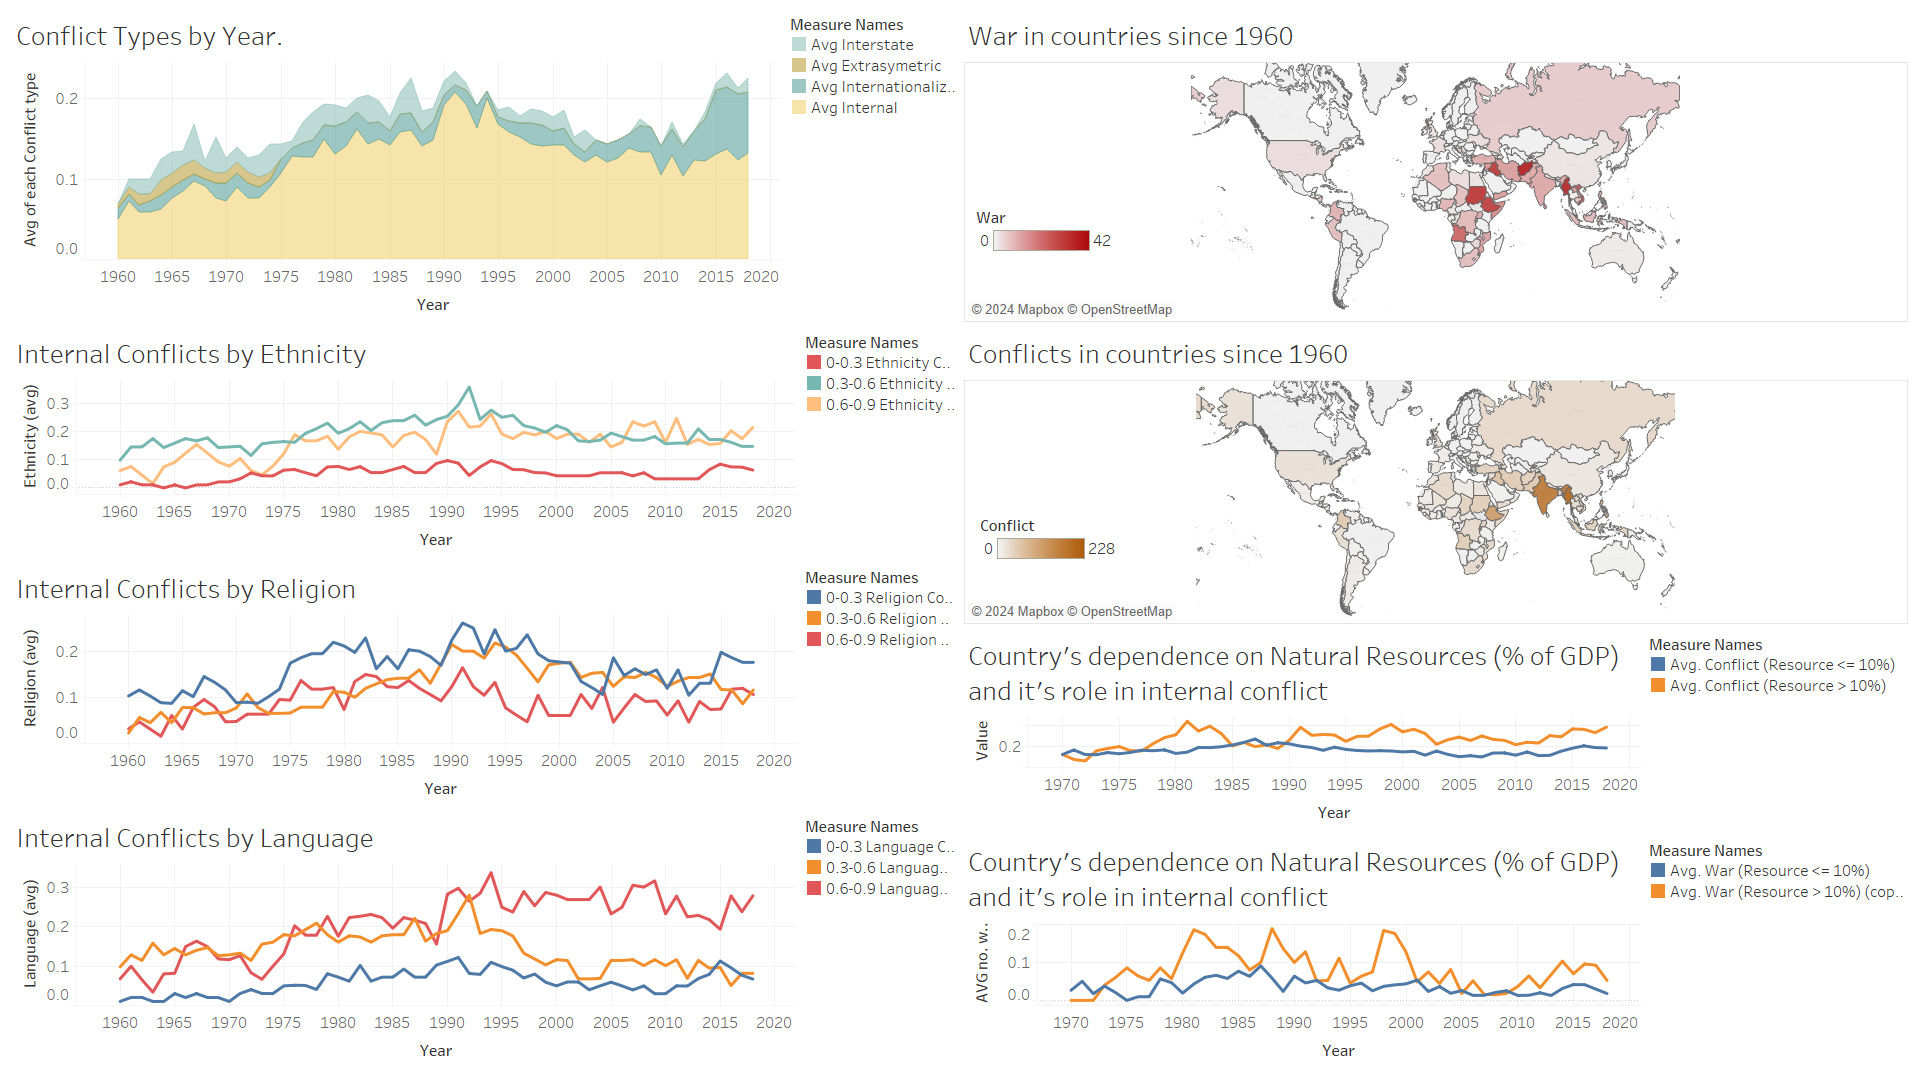

This screenshot's page, from the dashboard's own definition file:
{"tool":"tableau","page":{"name":"Dashboard 1","canvas":[1920,1080],"ordinal":0},"visuals":[{"type":"worksheet","title":"Sheet 1","mark":"Area","cols":["Year"],"box":[8,8,777.3,318]},{"type":"legend","title":"Sheet 1","param":"[federated.1ess6fn1mjjvet1e1osk21mhy7y6].[:Measure Names]","box":[785.3,8,174.7,318]},{"type":"worksheet","title":"Sheet 8","mark":"Automatic","box":[960,8,952,318]},{"type":"legend","title":"Sheet 8","param":"[federated.1ess6fn1mjjvet1e1osk21mhy7y6].[sum:war:qk]","box":[976,203,140,88]},{"type":"worksheet","title":"Sheet 3","mark":"Line","cols":["Year"],"box":[8,326,792,235]},{"type":"legend","title":"Sheet 3","param":"[federated.1ess6fn1mjjvet1e1osk21mhy7y6].[:Measure Names]","box":[800,326,160,93]},{"type":"worksheet","title":"Sheet 9","mark":"Automatic","box":[960,326,952,302.2]},{"type":"legend","title":"Sheet 9","param":"[federated.1ess6fn1mjjvet1e1osk21mhy7y6].[sum:conflict:qk]","box":[980,511,140,88]},{"type":"worksheet","title":"Sheet 4","mark":"Automatic","cols":["Year"],"box":[8,561,792,249]},{"type":"legend","title":"Sheet 4","param":"[federated.1ess6fn1mjjvet1e1osk21mhy7y6].[:Measure Names]","box":[800,561,160,249]},{"type":"worksheet","title":"Sheet 6","mark":"Automatic","cols":["Year"],"box":[960,628.2,684,206.3]},{"type":"legend","title":"Sheet 6","param":"[federated.1ess6fn1mjjvet1e1osk21mhy7y6].[:Measure Names]","box":[1644,628.2,268,206.3]},{"type":"worksheet","title":"Sheet 5","mark":"Automatic","cols":["Year"],"box":[8,810,792,262]},{"type":"legend","title":"Sheet 5","param":"[federated.1ess6fn1mjjvet1e1osk21mhy7y6].[:Measure Names]","box":[800,810,160,262]},{"type":"worksheet","title":"Sheet 7","mark":"Automatic","cols":["Year"],"box":[960,834.5,684,237.5]},{"type":"legend","title":"Sheet 7","param":"[federated.1ess6fn1mjjvet1e1osk21mhy7y6].[:Measure Names]","box":[1644,834.5,268,237.5]}]}

Visuals, with their boxes in screenshot pixels (x1, y1, x2, y2), scaled from the page's 1920x1080 canvas onto the 1920x1080 screenshot:
"Sheet 1" worksheet (Area marks): bbox=(8, 8, 785, 326)
"Sheet 1" legend: bbox=(785, 8, 960, 326)
"Sheet 8" worksheet: bbox=(960, 8, 1912, 326)
"Sheet 8" legend: bbox=(976, 203, 1116, 291)
"Sheet 3" worksheet (Line marks): bbox=(8, 326, 800, 561)
"Sheet 3" legend: bbox=(800, 326, 960, 419)
"Sheet 9" worksheet: bbox=(960, 326, 1912, 628)
"Sheet 9" legend: bbox=(980, 511, 1120, 599)
"Sheet 4" worksheet: bbox=(8, 561, 800, 810)
"Sheet 4" legend: bbox=(800, 561, 960, 810)
"Sheet 6" worksheet: bbox=(960, 628, 1644, 834)
"Sheet 6" legend: bbox=(1644, 628, 1912, 834)
"Sheet 5" worksheet: bbox=(8, 810, 800, 1072)
"Sheet 5" legend: bbox=(800, 810, 960, 1072)
"Sheet 7" worksheet: bbox=(960, 834, 1644, 1072)
"Sheet 7" legend: bbox=(1644, 834, 1912, 1072)
